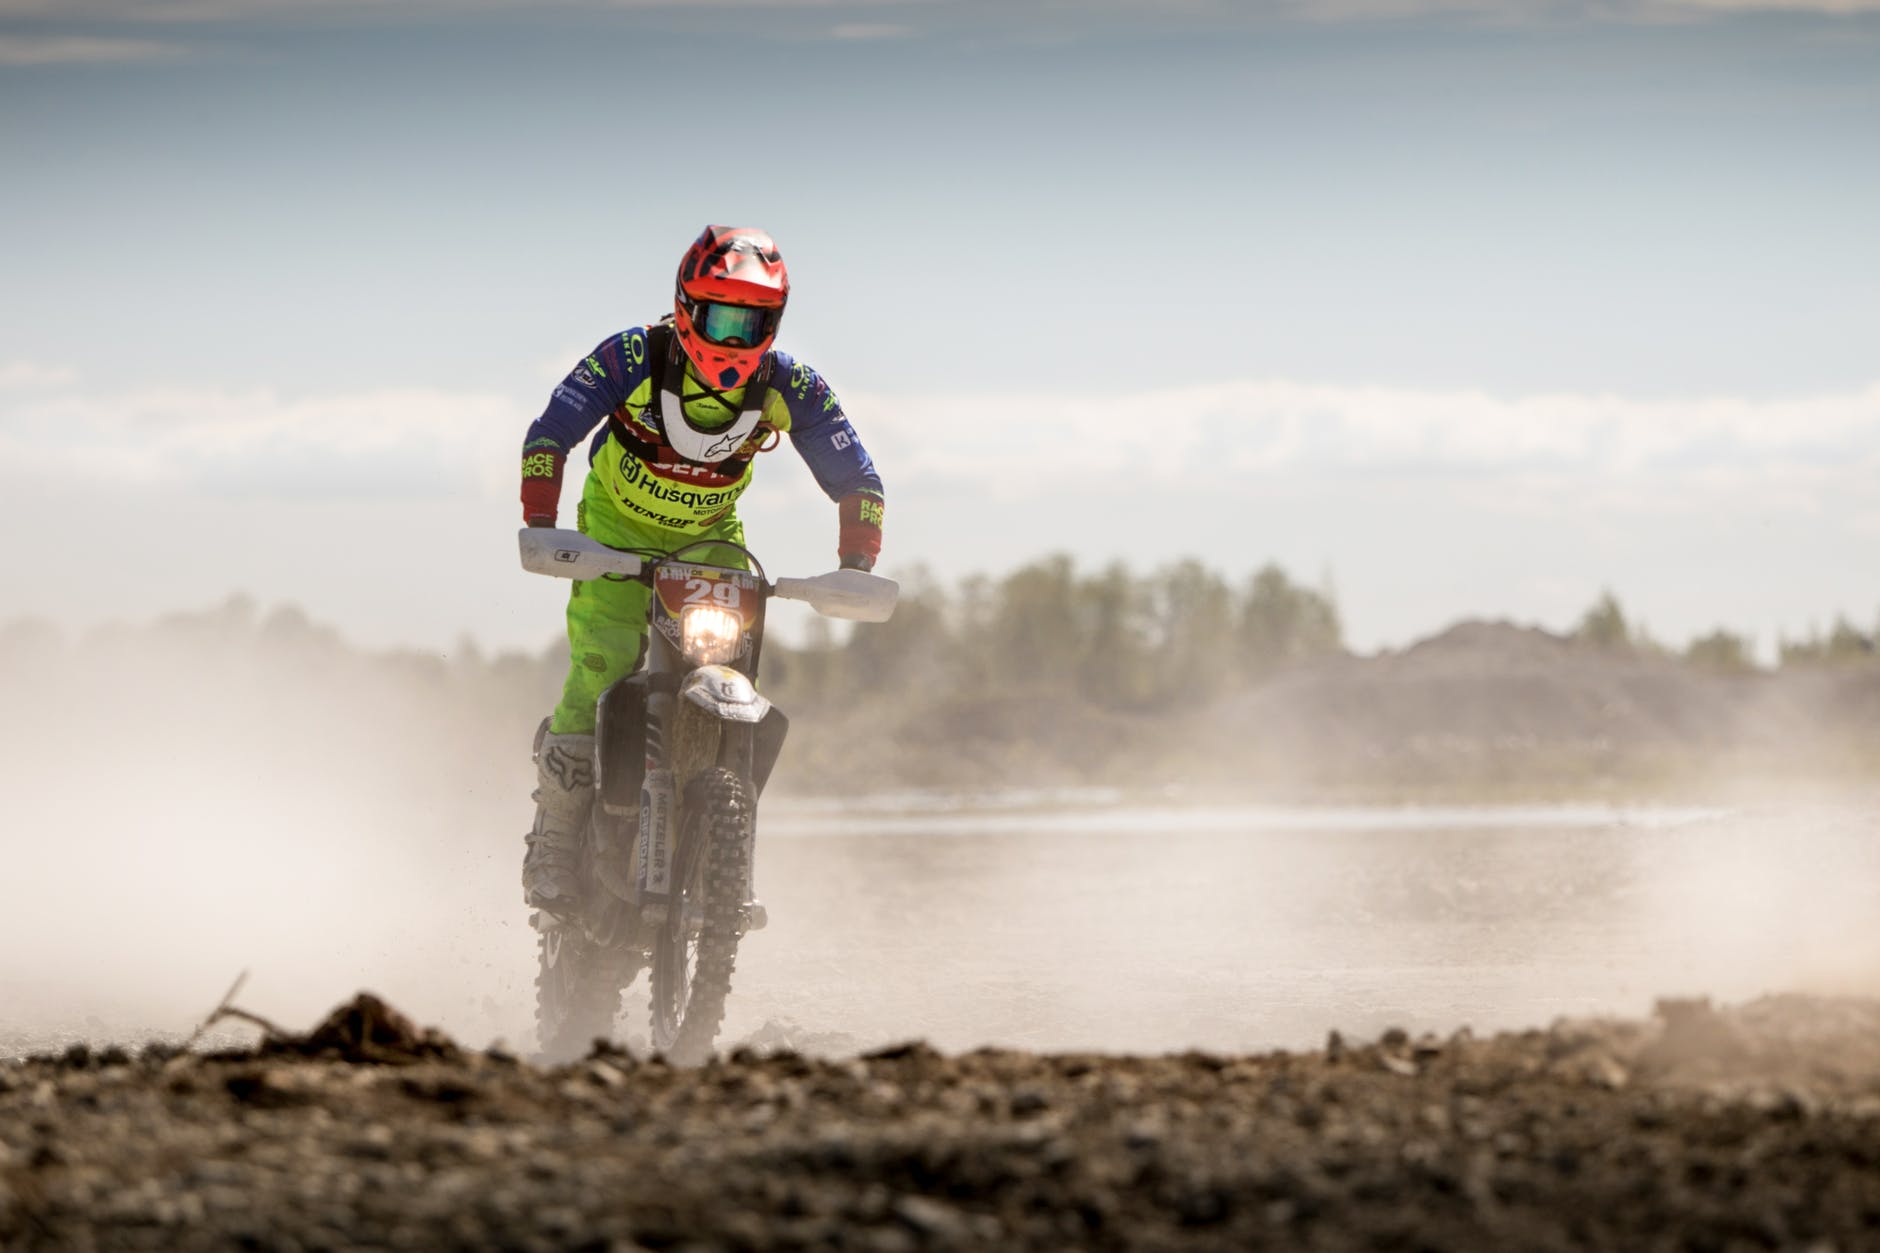helmet: (660, 215, 795, 400)
